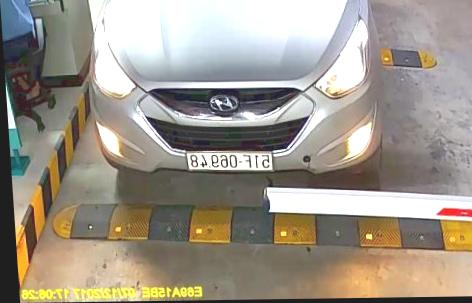License_Plate: (179, 144, 279, 178)
